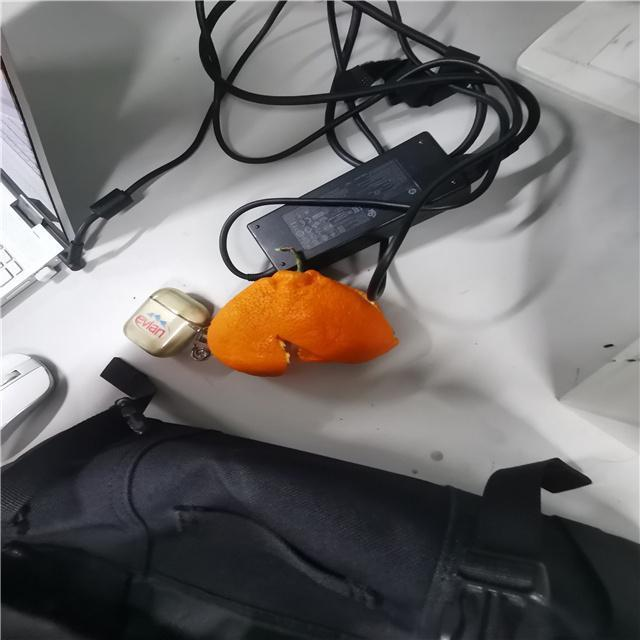orange peel: (206, 268, 400, 380)
